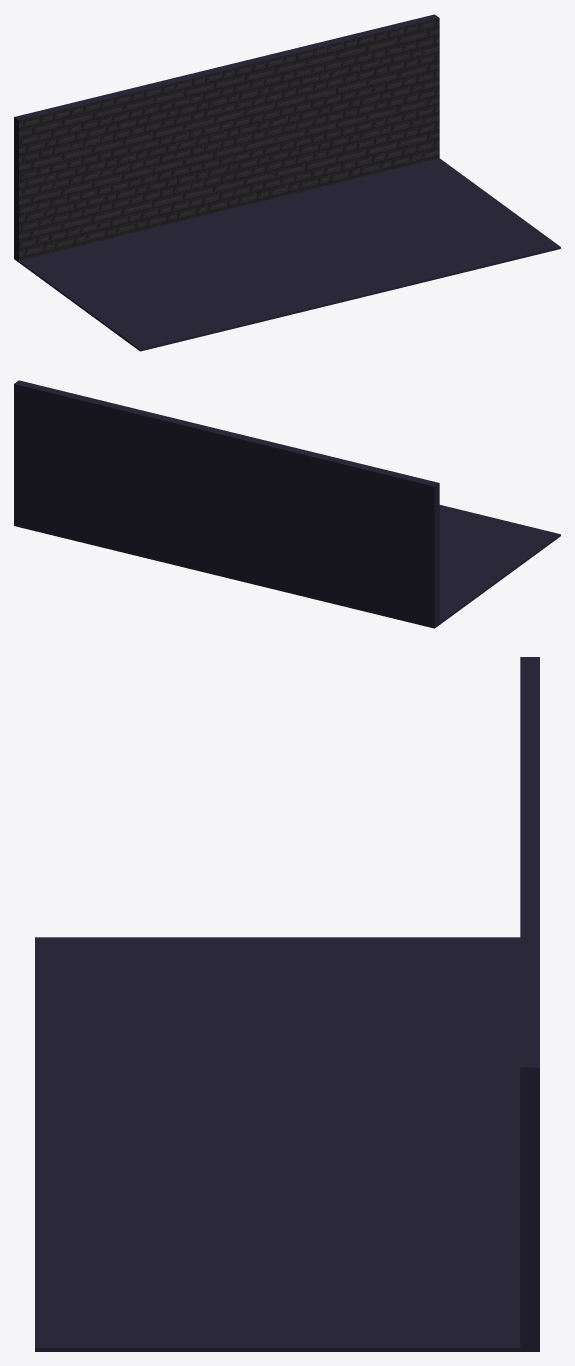
File: mdl_basement.glb
The picture shows the model from 3 angles, top to bottom: view 1: azimuth 30°, elevation 25°; view 2: azimuth 150°, elevation 25°; view 3: azimuth 270°, elevation 25°; orthographic projection. The views are drawn at different scales.
Parts seen in each view (by area): view 1: Cube; view 2: Cube; view 3: Cube.
Part boxes in pixels (<box>): Cube: <box>14,14,560,351</box>; Cube: <box>14,380,560,628</box>; Cube: <box>35,657,539,1351</box>.
Size of the model in its own units: 40.05 by 12.93 by 20.83.
Materials: 2 (2 with a texture image).
